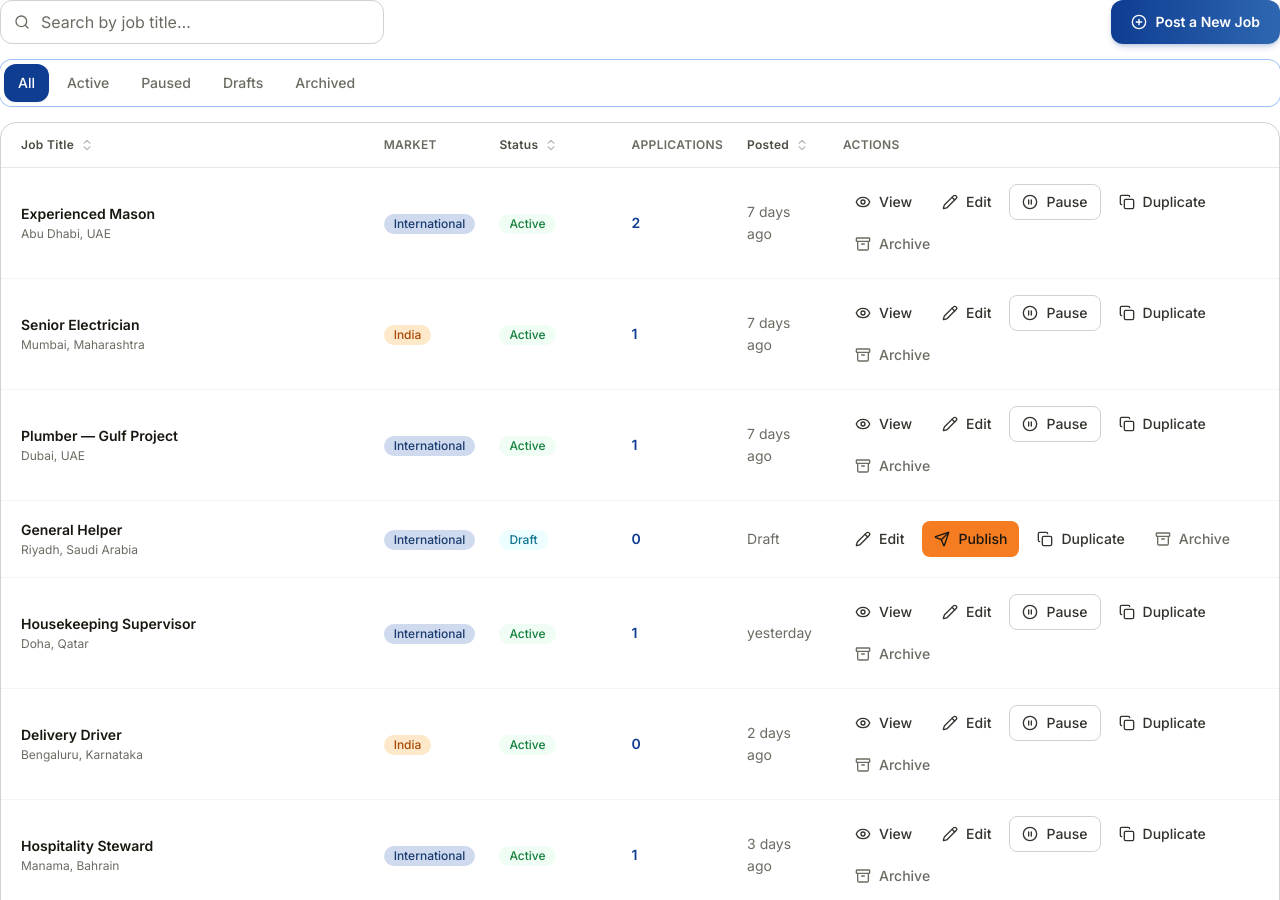
Test: MyJobsTable › filters by DRAFT status when Draft tab is clicked
Expected: the text "Experienced Mason" is shown, 21,205 -> 155,222
Click the tab "Drafts".
click(243, 83)  # box 209,64 -> 277,102
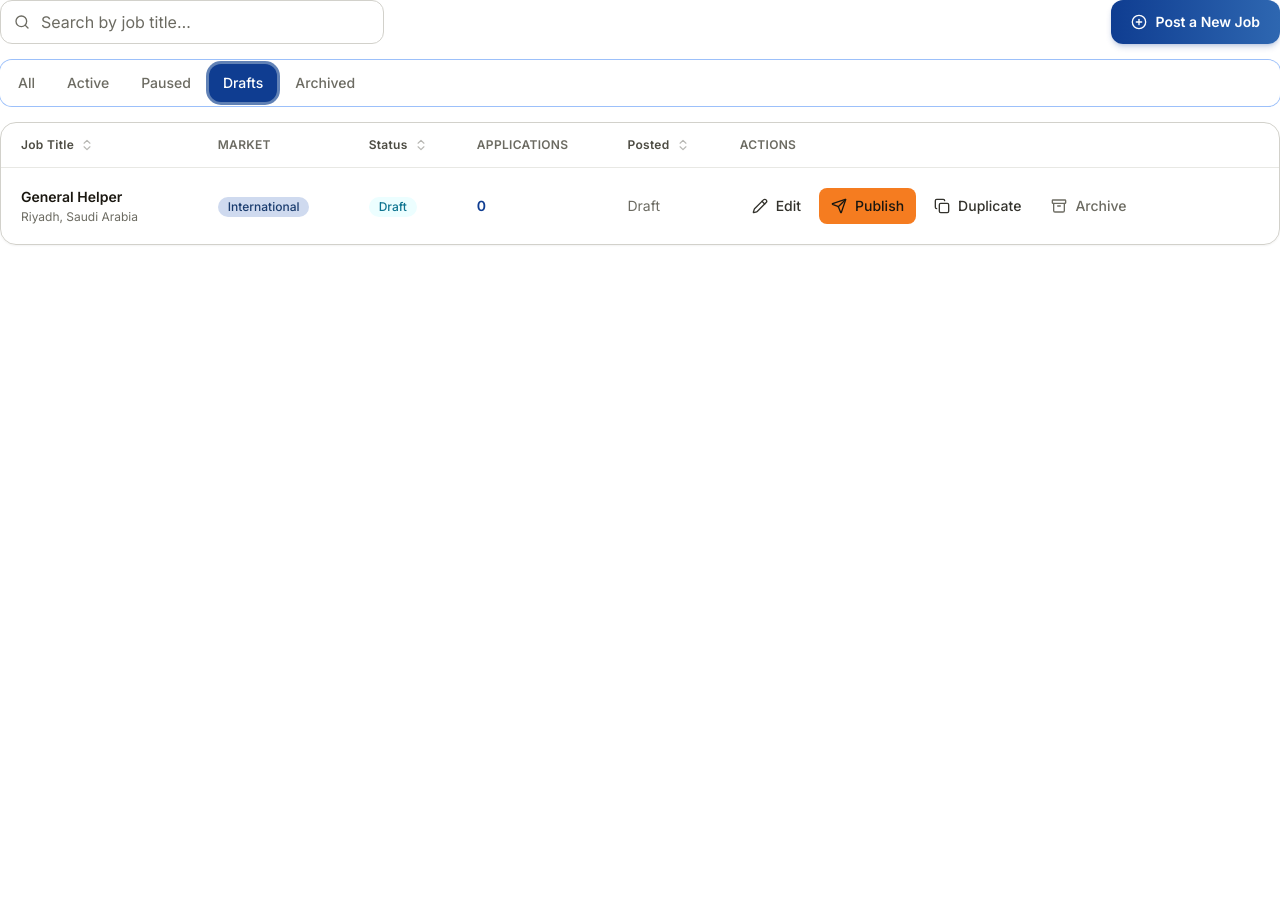
Expected: the text "General Helper" is shown, 21,188 -> 122,205
Expected: the text "Experienced Mason" is gone
